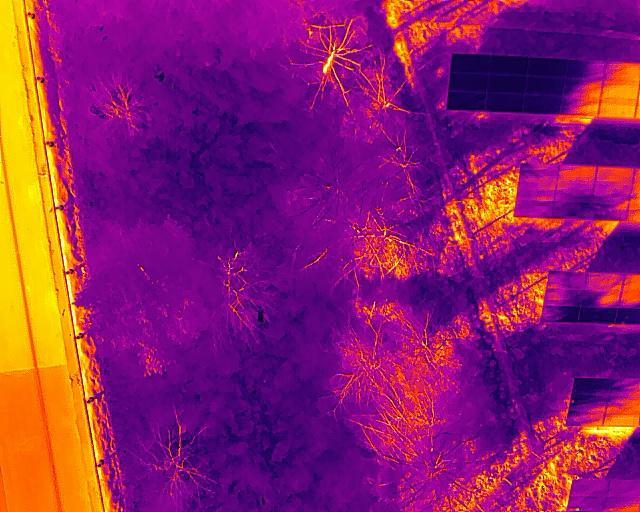No-Anomaly: (599, 99, 638, 119), (602, 82, 640, 99)
Shadowing: (564, 58, 603, 79), (524, 75, 564, 95), (518, 180, 556, 201), (447, 90, 485, 111), (552, 200, 591, 220), (555, 181, 594, 201), (487, 56, 528, 75), (590, 201, 628, 221), (593, 182, 633, 201), (522, 95, 560, 115), (483, 93, 521, 113), (563, 78, 603, 97), (486, 72, 524, 92), (586, 270, 625, 289), (559, 97, 600, 115), (602, 63, 640, 82), (519, 164, 559, 182), (582, 288, 622, 306), (528, 58, 565, 77), (557, 165, 596, 183), (595, 166, 634, 184), (544, 289, 583, 307), (568, 495, 608, 512), (449, 71, 486, 89), (570, 393, 608, 410), (572, 480, 610, 497), (549, 271, 584, 289), (452, 53, 487, 71), (566, 410, 605, 426), (517, 200, 553, 217), (580, 307, 617, 323), (543, 308, 580, 323), (575, 378, 611, 393)
